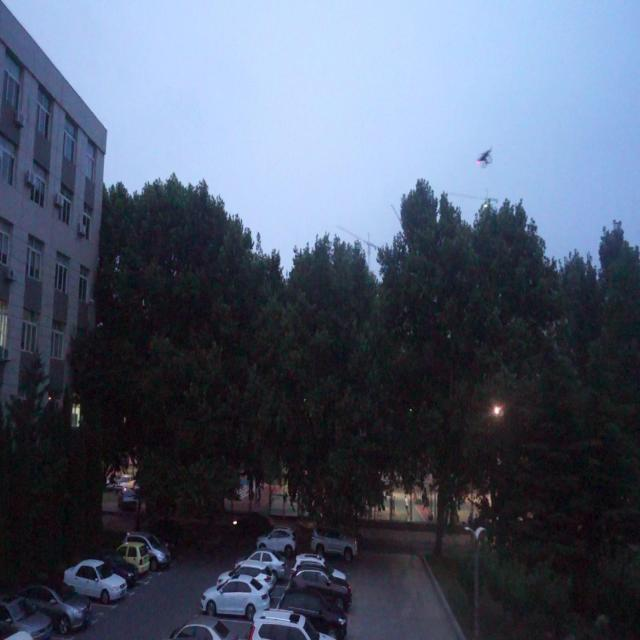drone: (474, 145, 498, 170)
